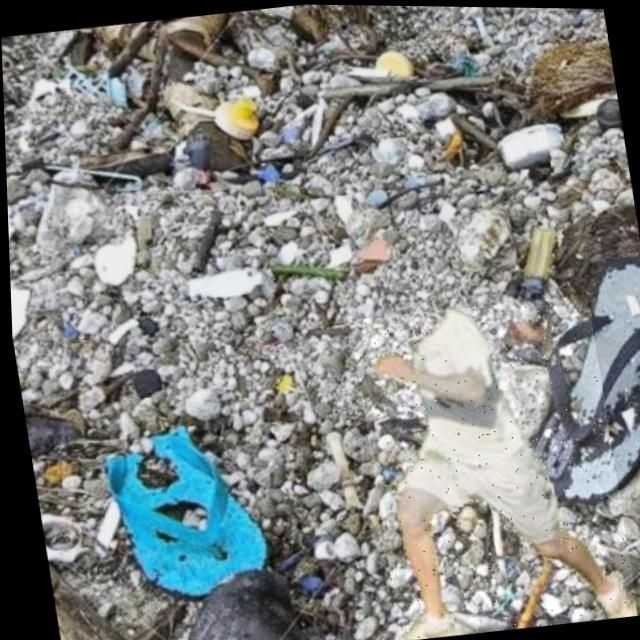Person in Rubble: (346, 289, 635, 640)
